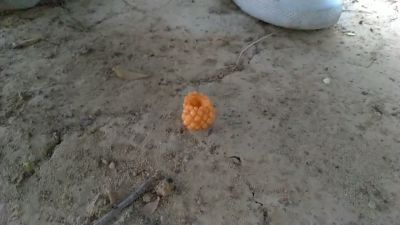eggs: (181, 88, 217, 134)
